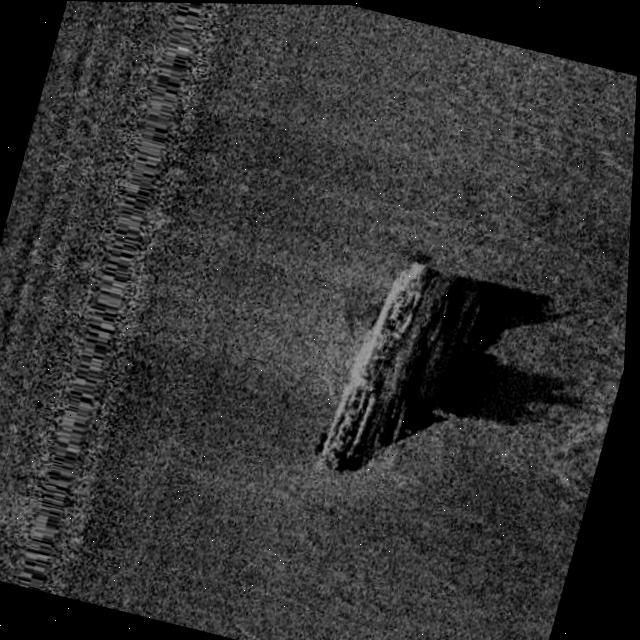shipwreck: (319, 249, 446, 486)
